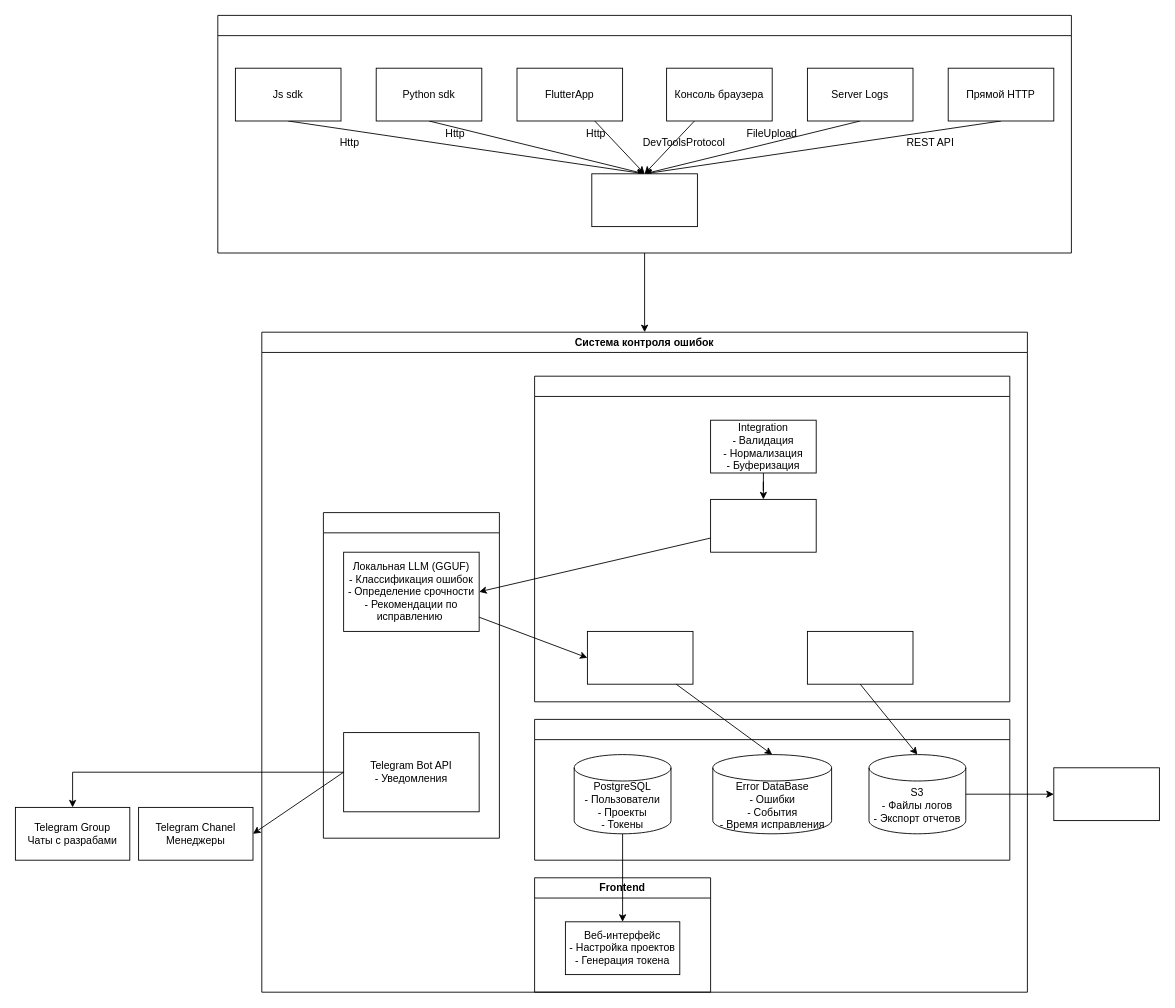
Image size: 1175x1008. Some labels were removed from this diagram. Here are the shapes that lost their labels. From the top down, the box of each, then its label:
(217, 15, 1071, 253): Client
(591, 173, 697, 227): API/Geteway
(710, 499, 816, 552): Processing - Парсинг логов - Обогащение данных
(534, 375, 1010, 702): Backend Services
(323, 512, 499, 838): Внешние сервисы
(587, 631, 693, 684): Alert Service - Группировка - Дудепликация - Троттлинг
(807, 631, 913, 684): Stat Service - Агрегация метрик - Генерация отчетов
(534, 719, 1010, 860): Хранение данных
(1053, 767, 1159, 821): Еженедельный отчет
